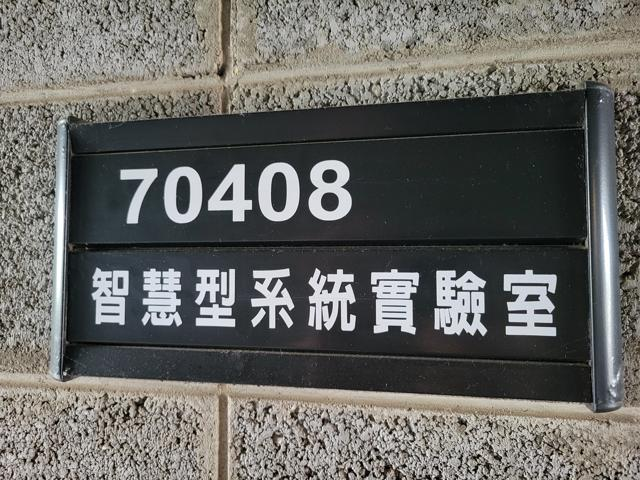doorplate: (46, 75, 627, 419)
